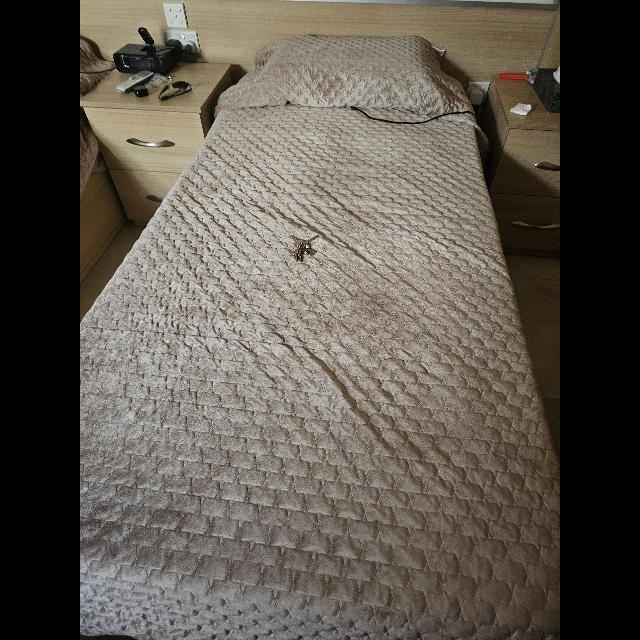Keys: (290, 235, 318, 263)
Sunglasses: (159, 81, 193, 101)
